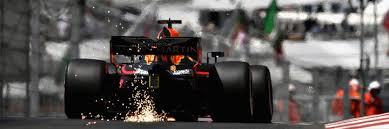FormulaOneCar: (63, 17, 278, 123)
